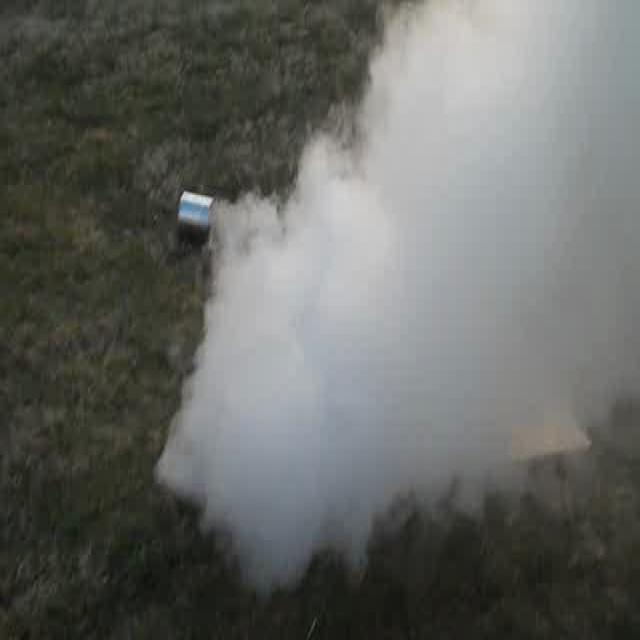Smoke: (195, 13, 638, 542)
